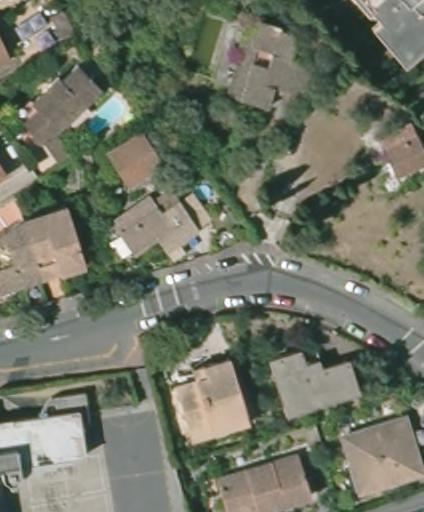pool: (81, 94, 129, 133), (189, 179, 212, 204)
